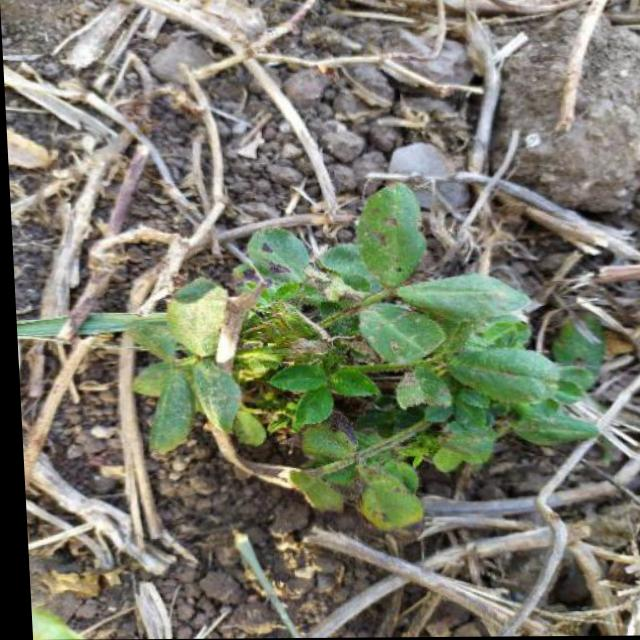weed: (137, 189, 583, 532)
